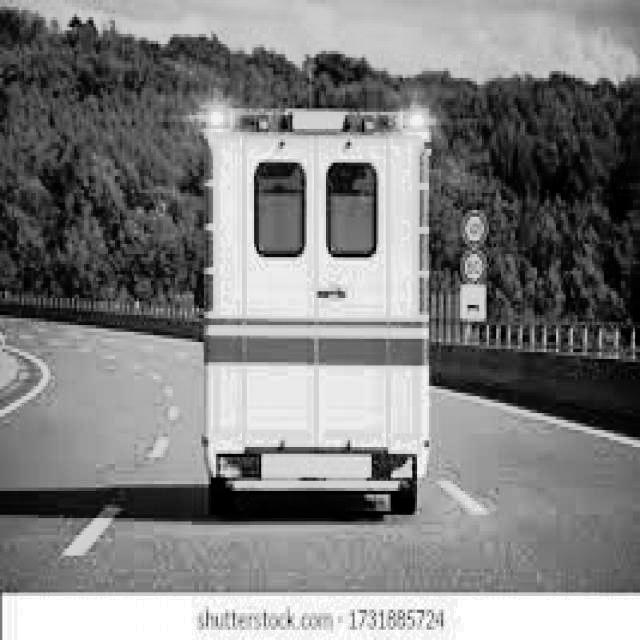LCV: (208, 125, 429, 477)
